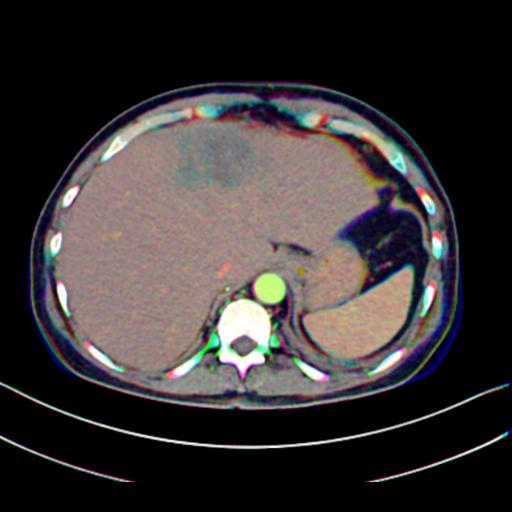Abscess: (175, 123, 253, 188)
